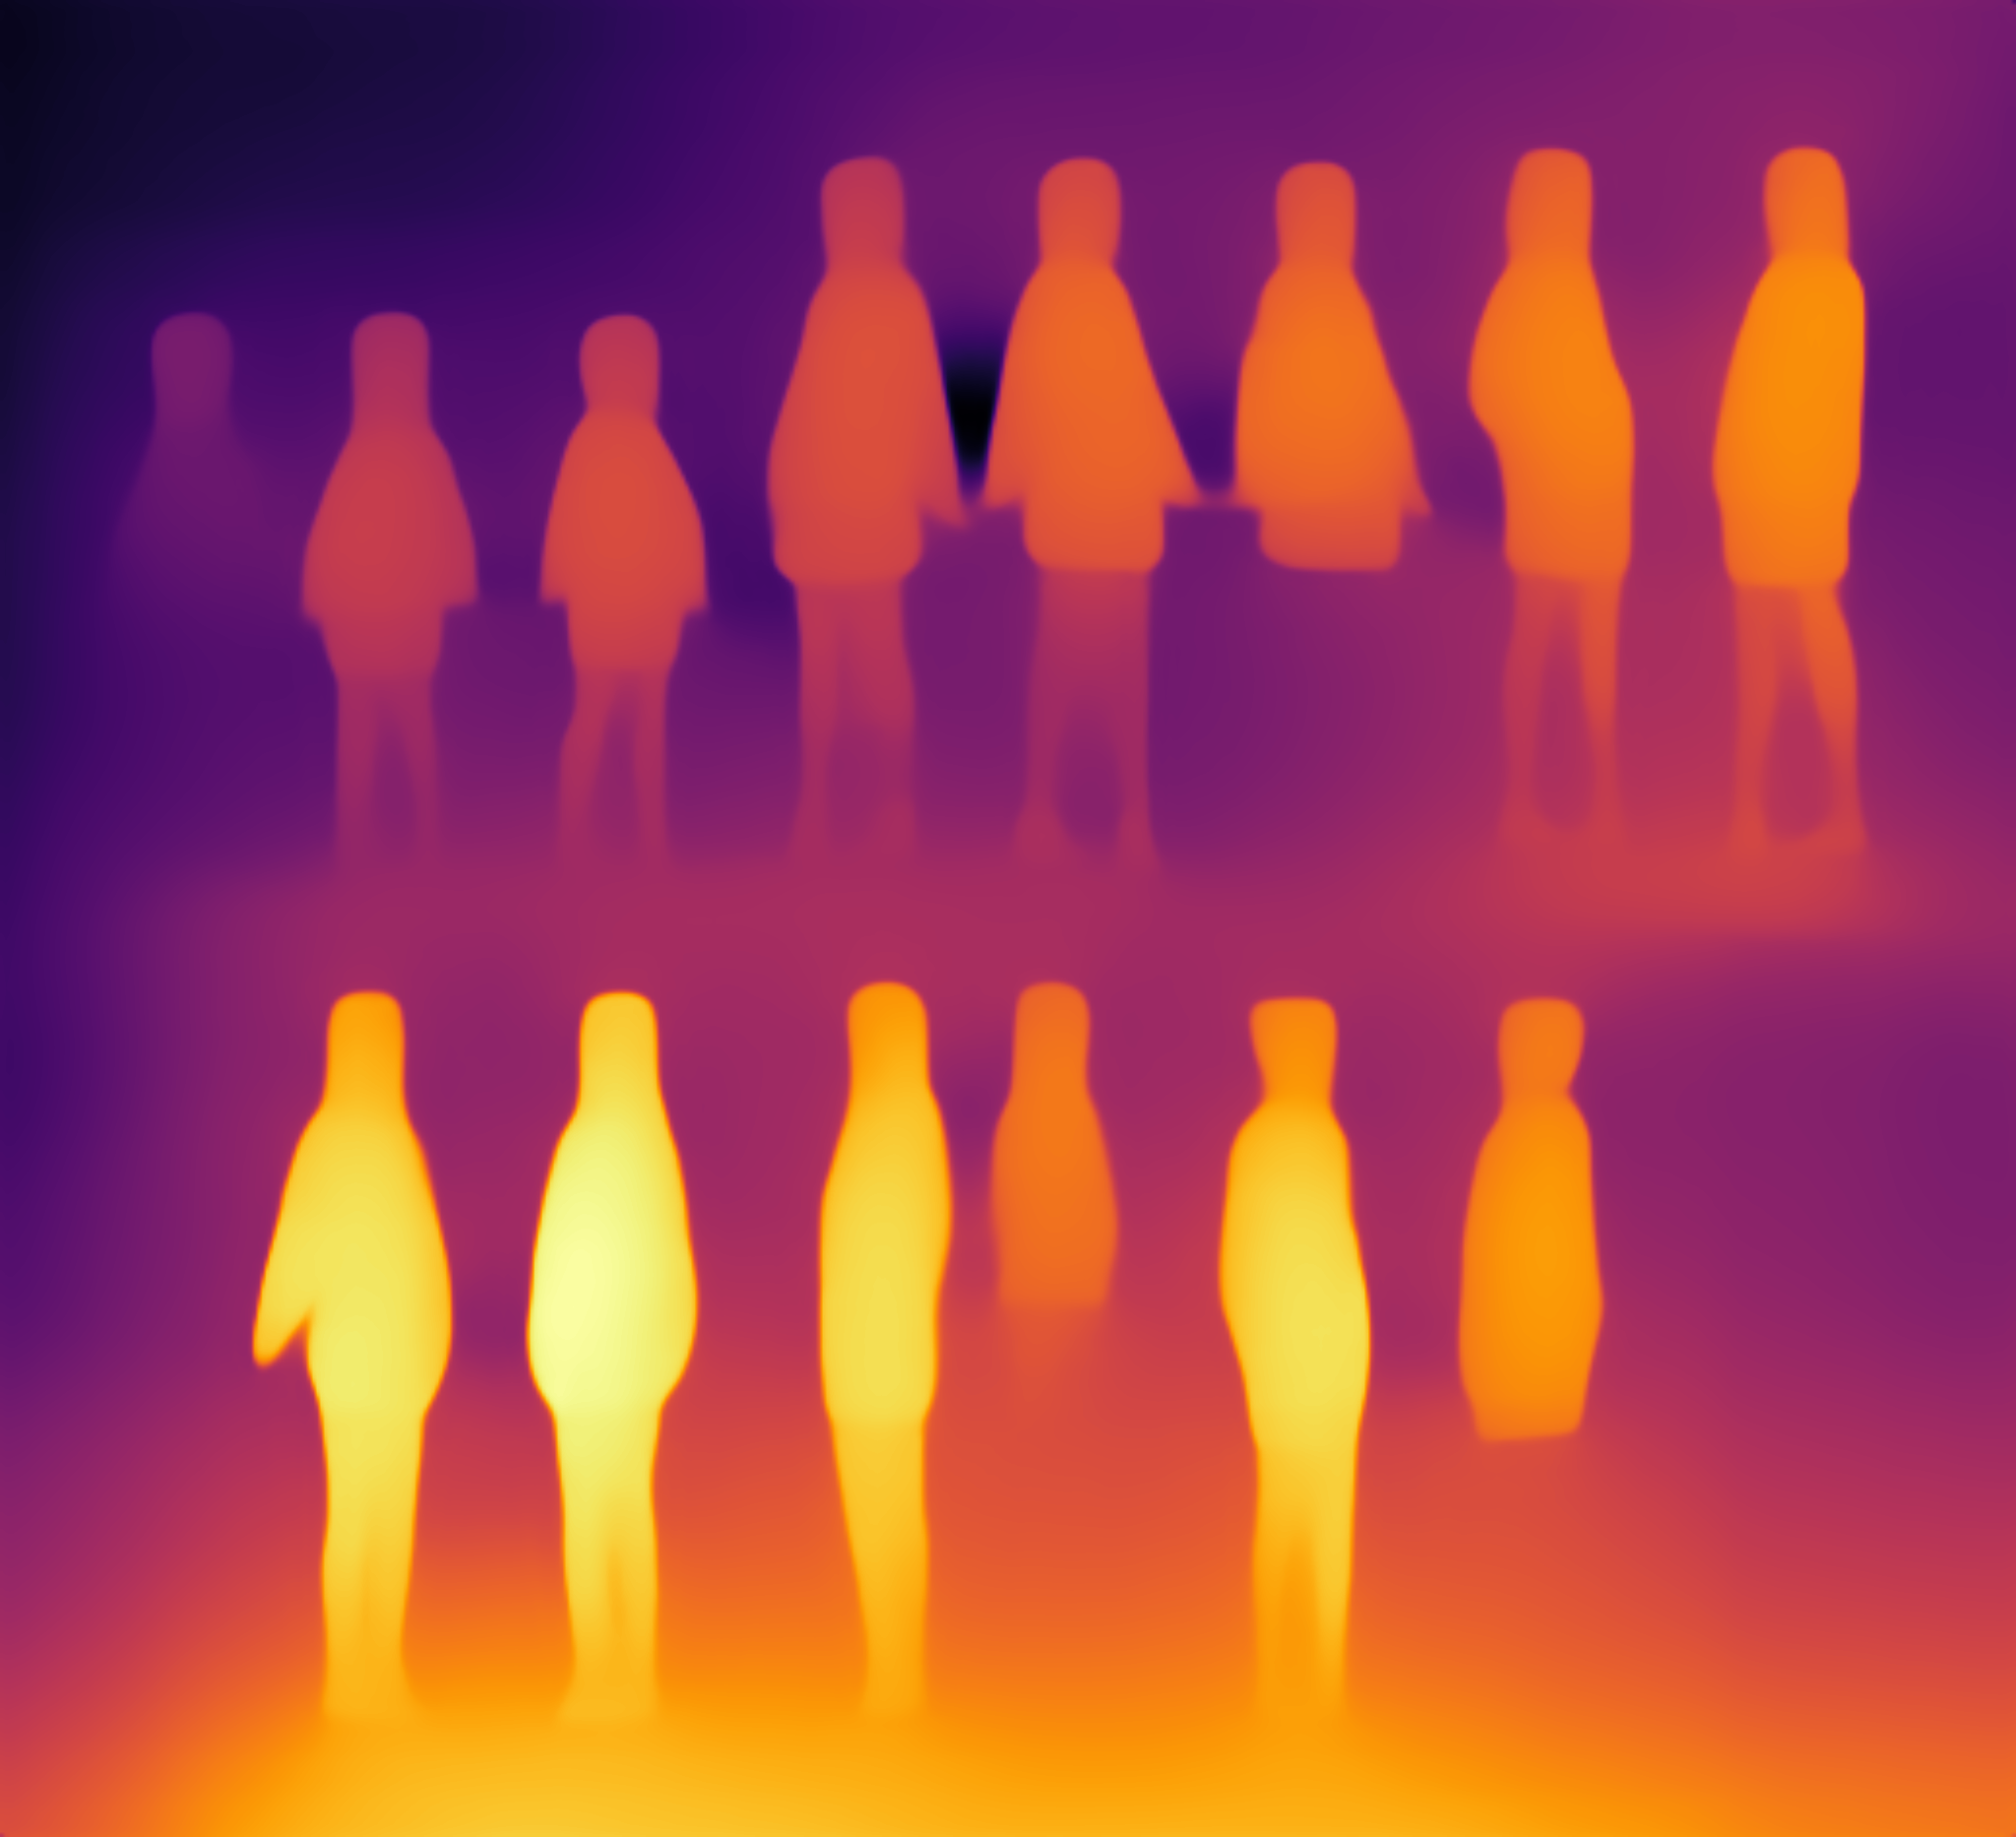p: (486, 964, 750, 1746), (1677, 151, 1933, 887), (258, 938, 474, 1779), (976, 142, 1215, 901), (1433, 966, 1709, 1572), (1447, 148, 1674, 869), (774, 149, 964, 892), (1189, 964, 1368, 1746), (286, 302, 508, 871), (525, 288, 731, 890), (811, 982, 961, 1728), (1242, 148, 1435, 613), (990, 955, 1150, 1458), (84, 276, 276, 638)
